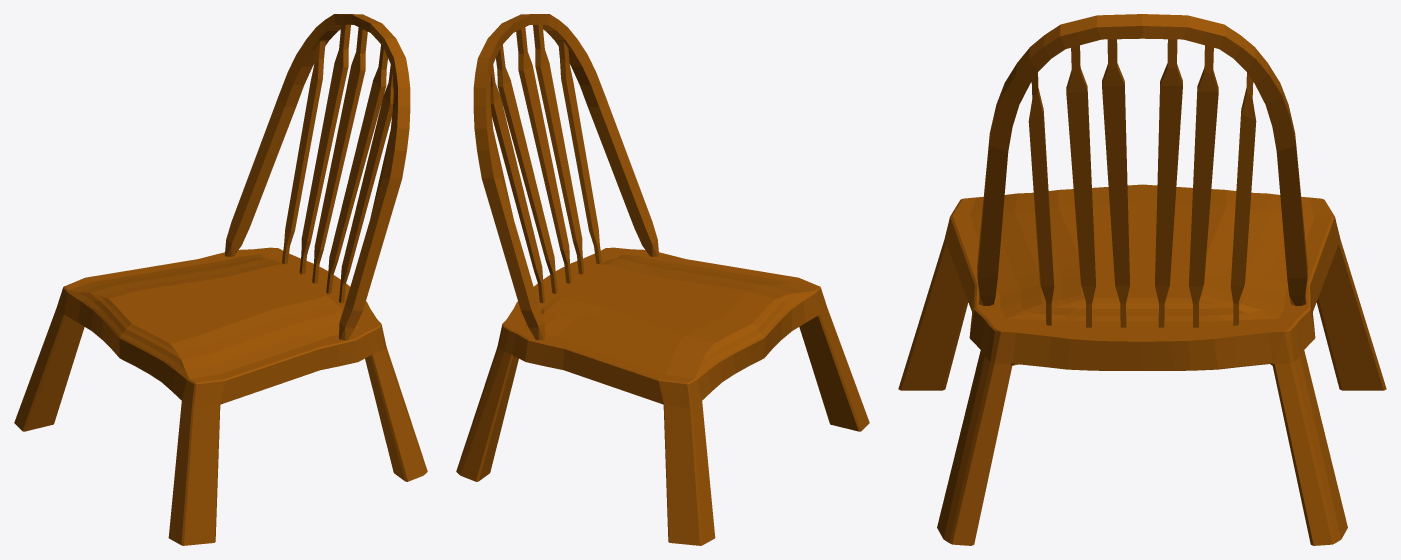
The model's file is SM_Kitchen_Table_Chair.fbx.
The picture shows the model from 3 angles, left to right: view 1: azimuth 30°, elevation 25°; view 2: azimuth 150°, elevation 25°; view 3: azimuth 270°, elevation 25°; orthographic projection. The views are drawn at different scales.
Visible parts, largest first — view 1: Kitchen Chair; view 2: Kitchen Chair; view 3: Kitchen Chair.
Boxes of the visible parts, x1,y1,x2,y2 form: Kitchen Chair: (14, 14, 427, 545); Kitchen Chair: (456, 14, 869, 545); Kitchen Chair: (898, 14, 1386, 545).
Size of the model in its own units: 1090 by 1011 by 1329.
